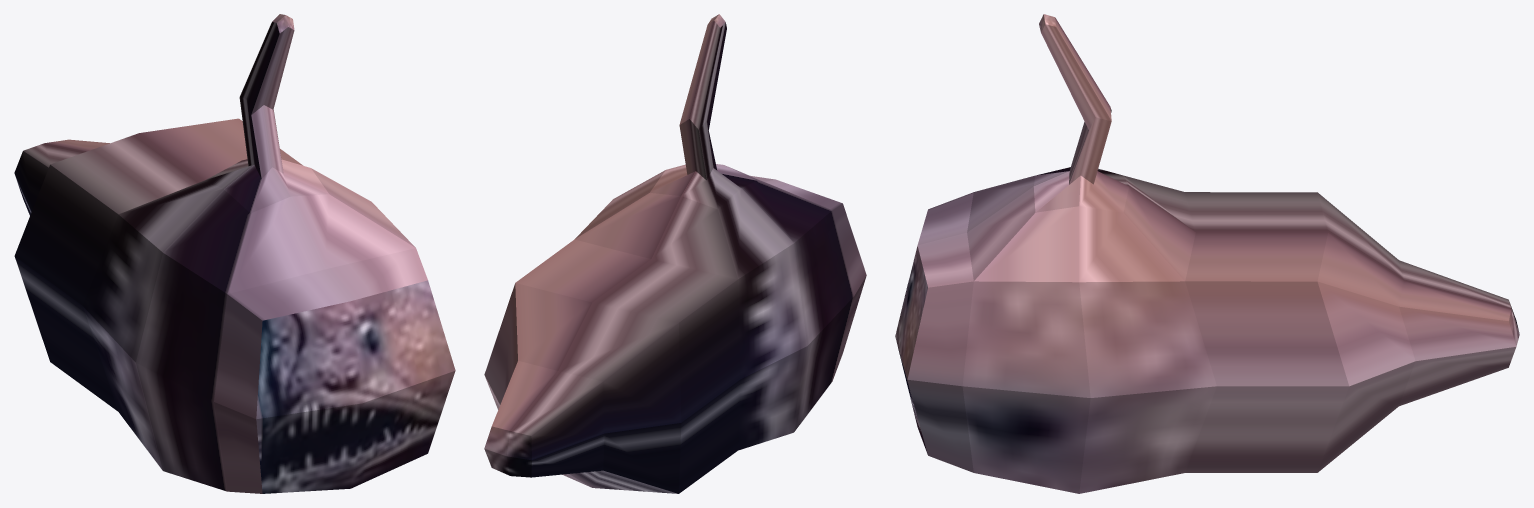
File: anglerFish.fbx
3 renders of one model, left to right at view 1: azimuth 30°, elevation 25°; view 2: azimuth 150°, elevation 25°; view 3: azimuth 270°, elevation 25°, orthographic. The views are drawn at different scales.
Parts seen in each view (by area): view 1: Cube, Cube.001; view 2: Cube; view 3: Cube, Cube.001.
Part boxes in pixels (<box>): Cube: <box>14,14,427,493</box>; Cube.001: <box>256,280,455,493</box>; Cube: <box>484,14,866,493</box>; Cube: <box>907,14,1519,493</box>; Cube.001: <box>895,246,927,453</box>.
Bounding box in the file's own units: 266 × 463 × 591.
